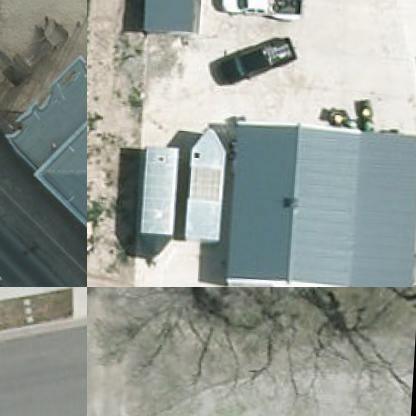pickup: (215, 27, 299, 88), (218, 0, 306, 17)
